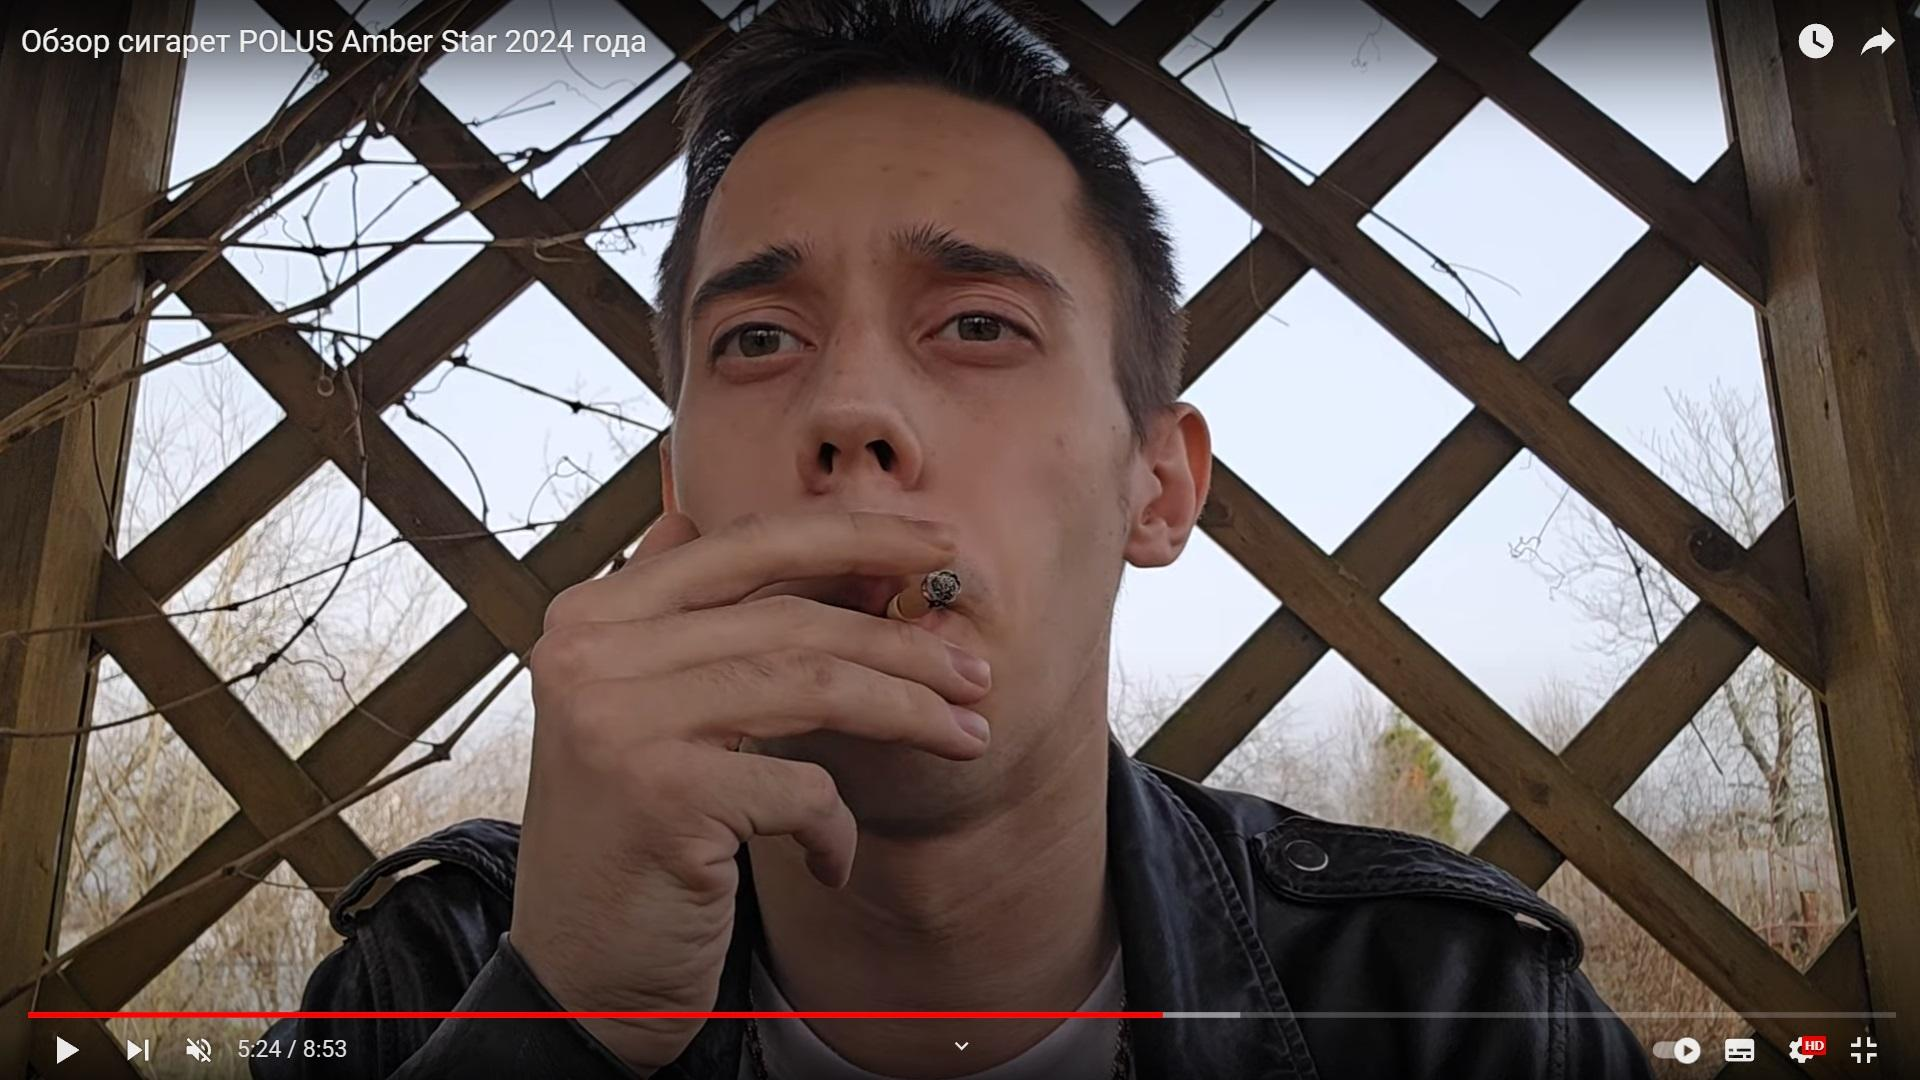cigarette: (885, 568, 963, 622)
